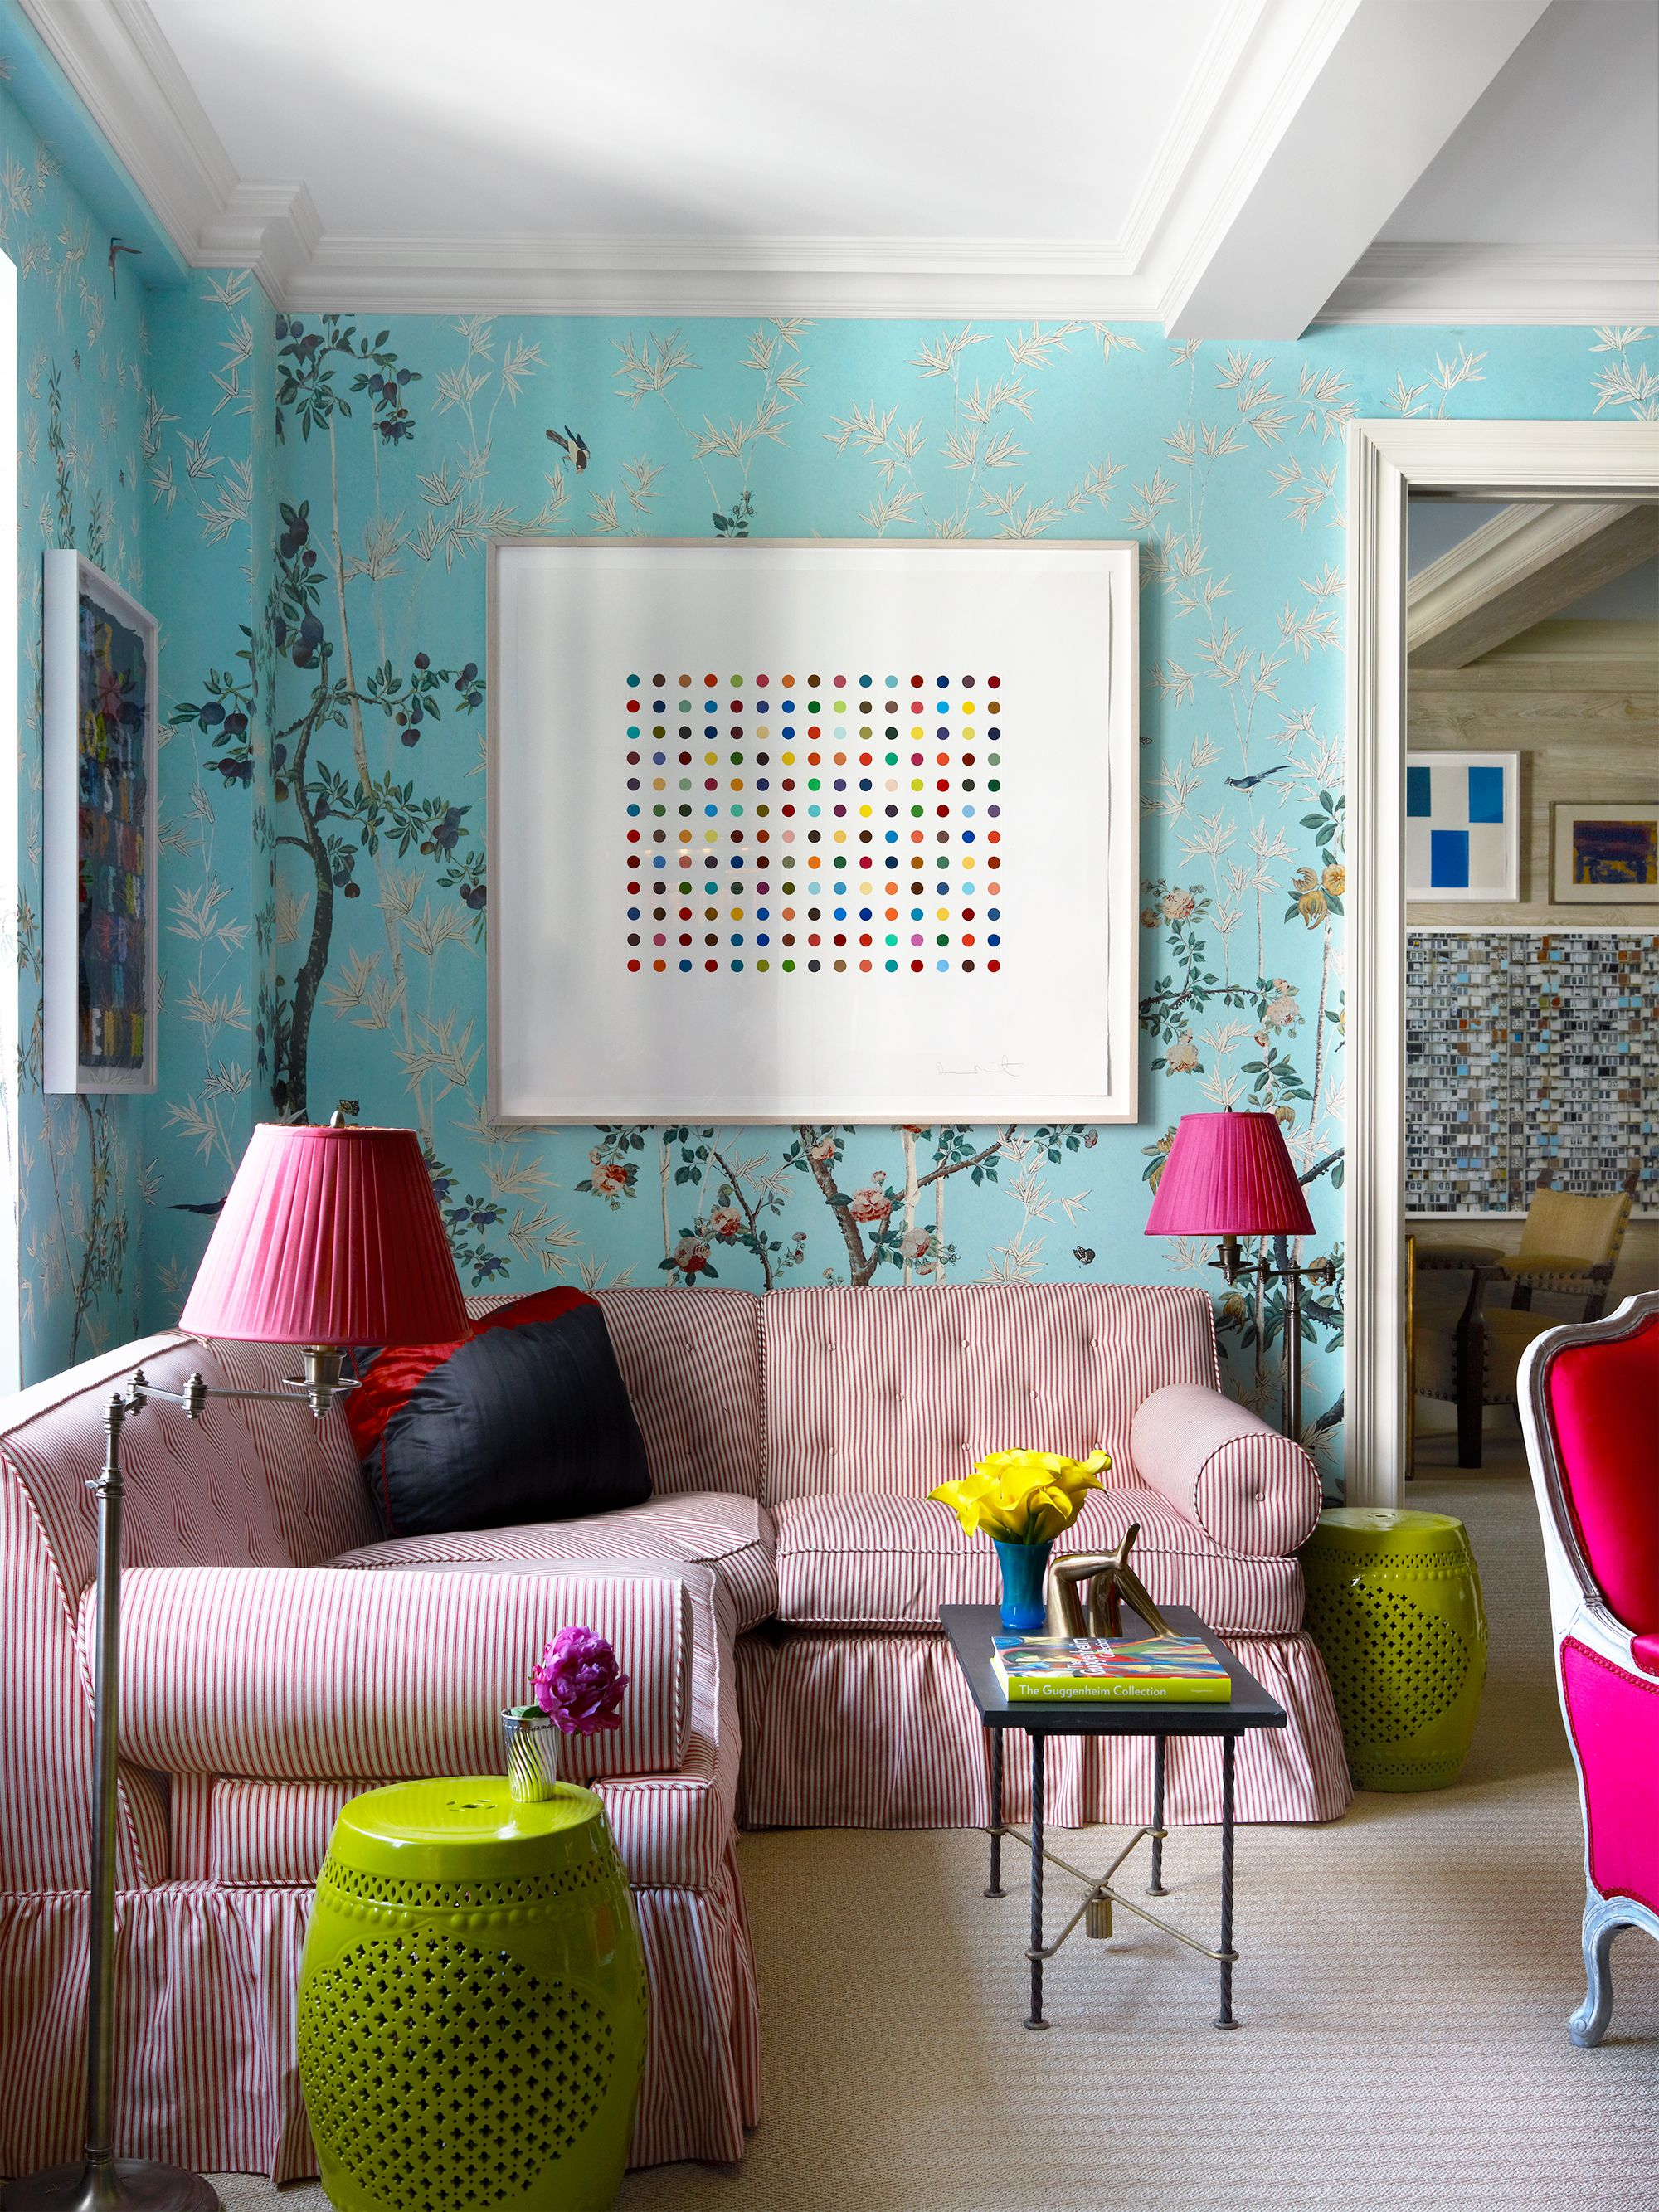biru: (992, 1543, 1040, 1637)
hijau: (301, 1801, 657, 2210), (1317, 1514, 1497, 1792)
hitam: (387, 1329, 648, 1534)
merah: (1554, 1345, 1659, 1904)
ungu: (206, 1122, 453, 1341), (1150, 1111, 1317, 1235)
